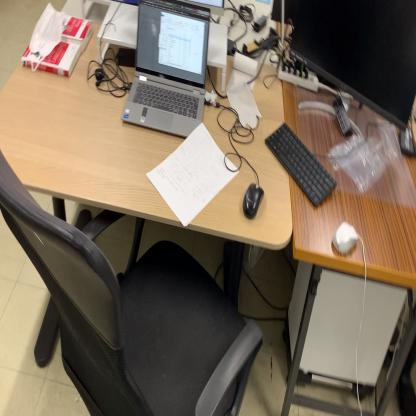chair: (0, 147, 264, 416)
